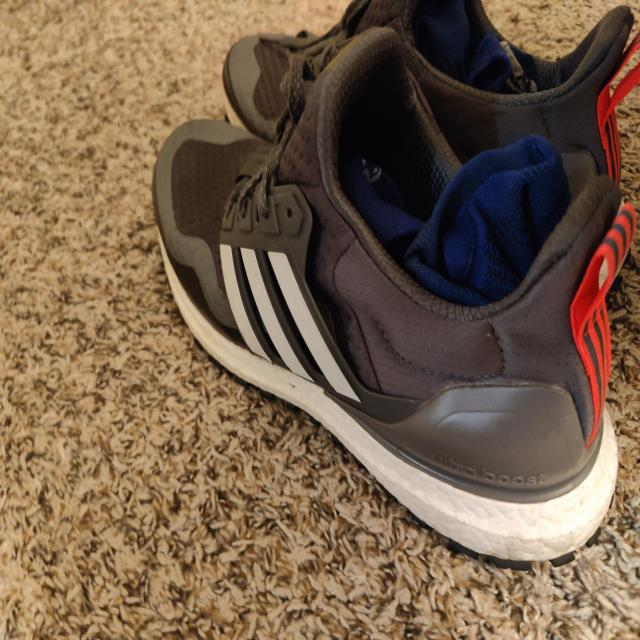black shoes: (162, 1, 632, 560)
